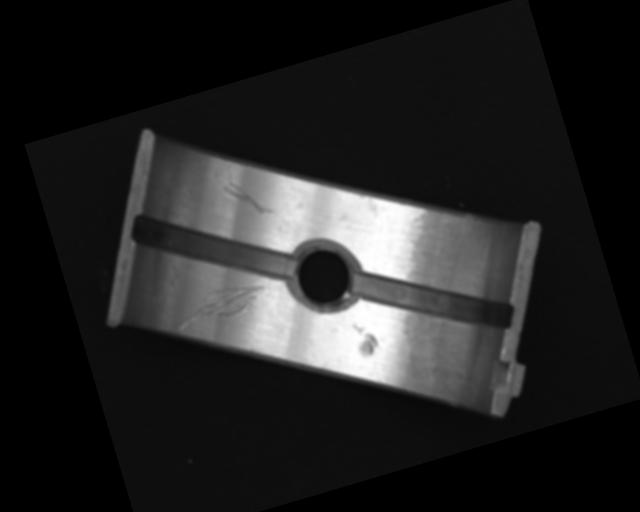bruise: (350, 316, 381, 359)
gap: (128, 178, 297, 316), (353, 233, 516, 365)
hole: (279, 234, 368, 320)
nick: (170, 276, 270, 334), (221, 173, 273, 226)
